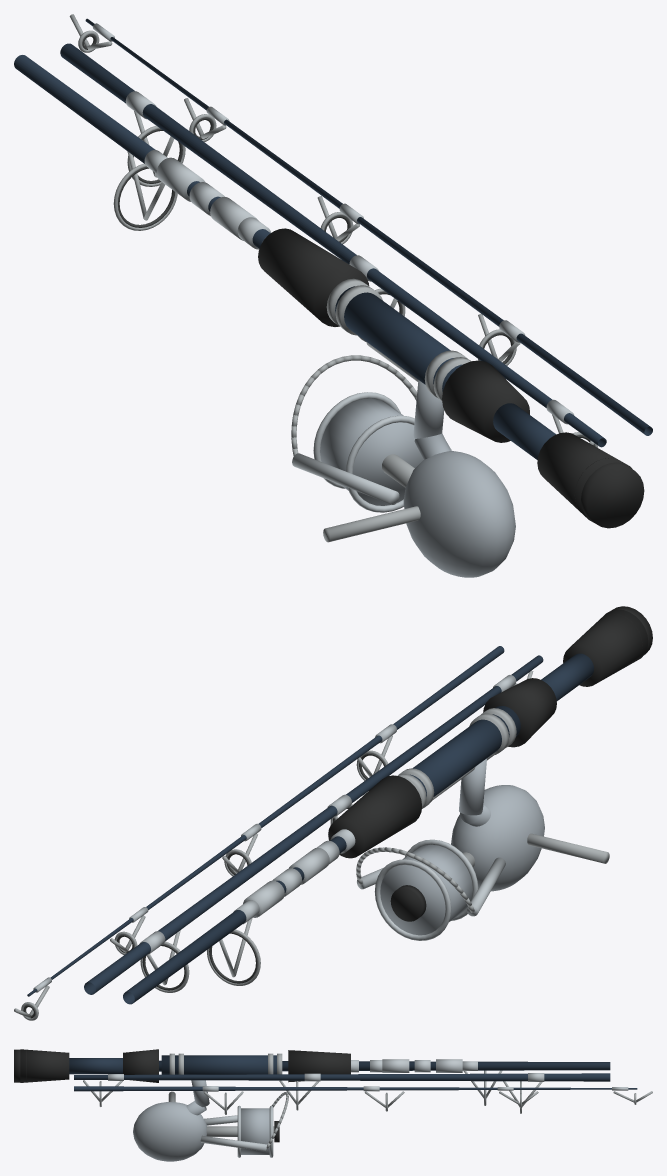
Rendered from reed_folded.glb.
3 views of the same model, one above another, from view 1: azimuth 30°, elevation 25°; view 2: azimuth 150°, elevation 25°; view 3: azimuth 270°, elevation 25° (orthographic). The views are drawn at different scales.
Visible parts, largest first — view 1: Folded rod; view 2: Folded rod; view 3: Folded rod.
Part boxes in pixels (x1,y1,x2,y2): Folded rod: (14,14,652,577); Folded rod: (14,606,652,1020); Folded rod: (14,1049,652,1161).
Bounding box in the file's own units: 0.1577 × 0.1349 × 0.7147.
